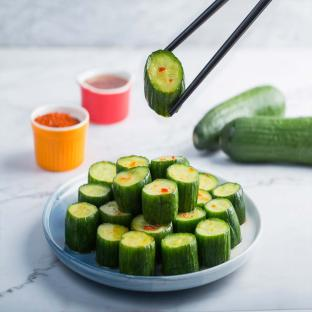Cucumber: (194, 87, 284, 149), (221, 117, 311, 164), (144, 50, 185, 117), (131, 215, 172, 262), (113, 166, 151, 214), (205, 199, 241, 248), (65, 203, 99, 253), (195, 218, 230, 266), (142, 179, 178, 224), (162, 233, 199, 275), (119, 232, 155, 275), (167, 164, 199, 212), (212, 183, 245, 224), (97, 224, 128, 267), (99, 201, 134, 228), (150, 156, 186, 180), (174, 207, 206, 233), (79, 184, 112, 208), (88, 162, 116, 187), (116, 156, 149, 173), (199, 173, 218, 192), (197, 189, 211, 208), (186, 159, 189, 166)
